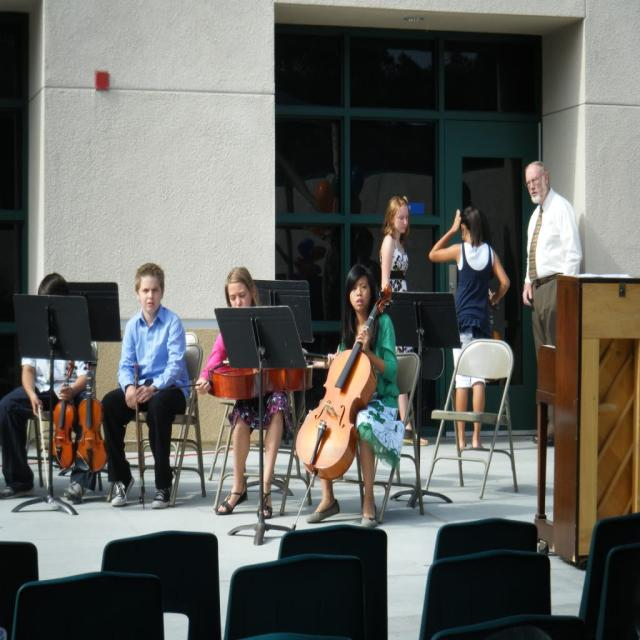cello: (295, 286, 396, 484), (206, 364, 320, 401)
violin: (74, 359, 110, 474), (50, 356, 79, 467)
